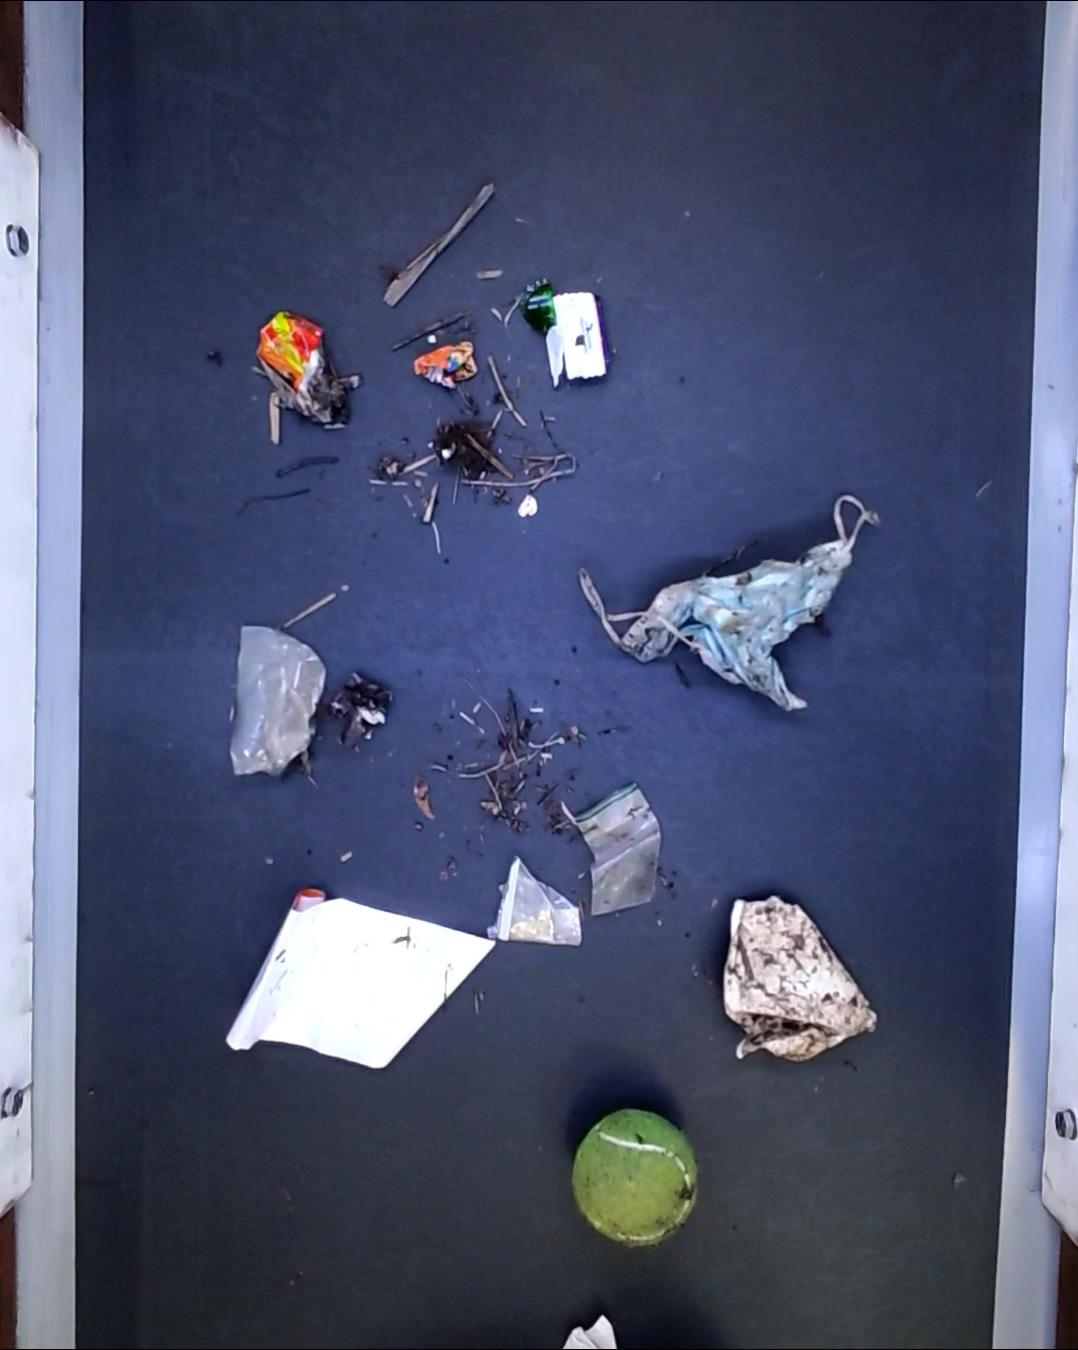Plastic folies of stukken daarvan 2.5- 50 cm: (229, 624, 319, 778), (493, 850, 584, 950)
Snoep snack en chips verpakkingen: (548, 290, 610, 382)
